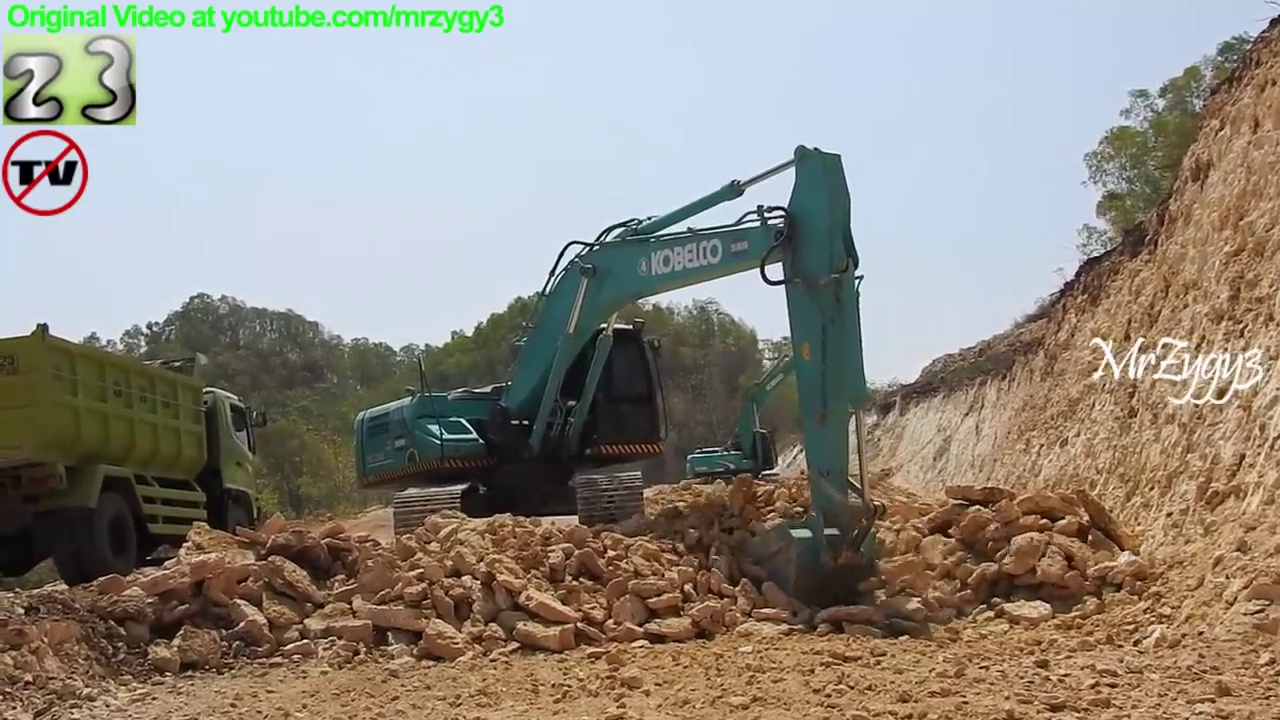excavator: (350, 138, 886, 619), (681, 334, 862, 500)
truck: (1, 311, 277, 600)
